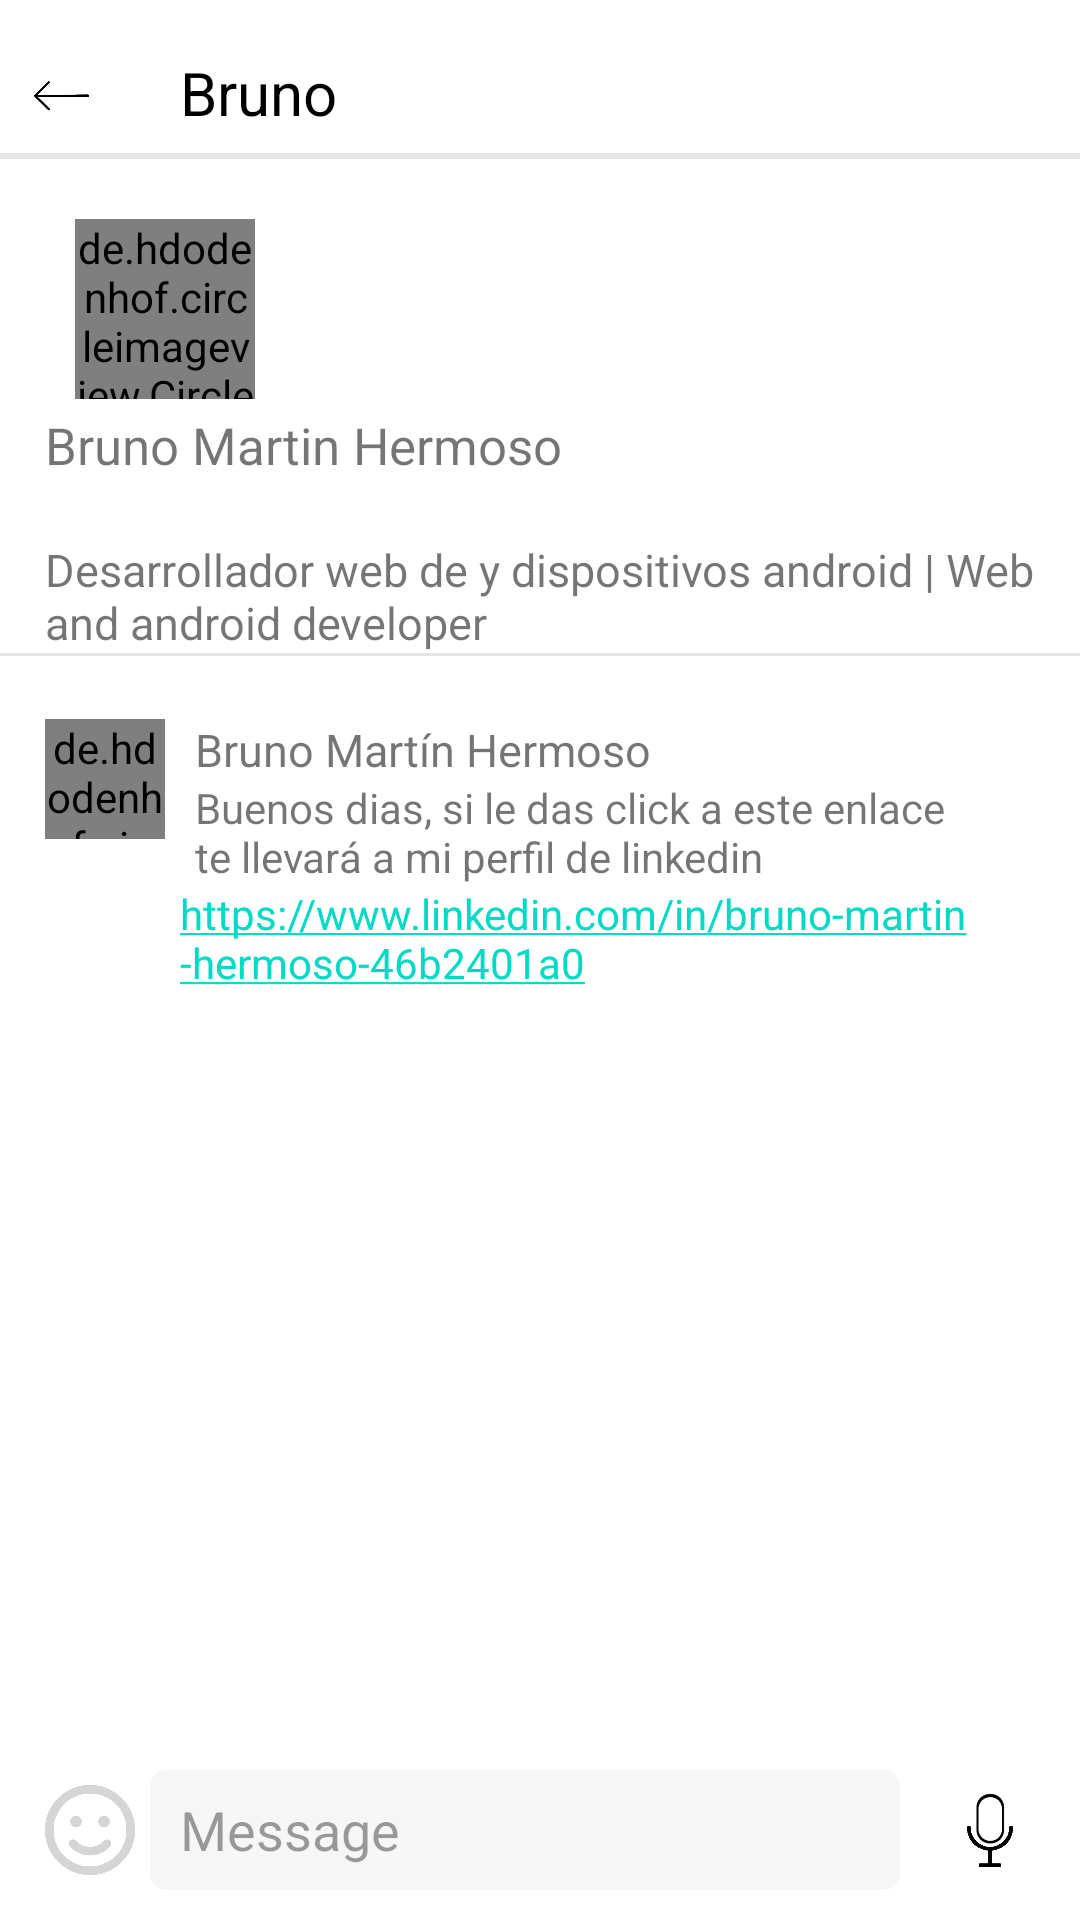

Named icons in this screenshot (1080×1920) and their centers, point (x, y):
emoji: point (90, 1830)
flechanegro: point (61, 95)
microlink: point (990, 1830)
